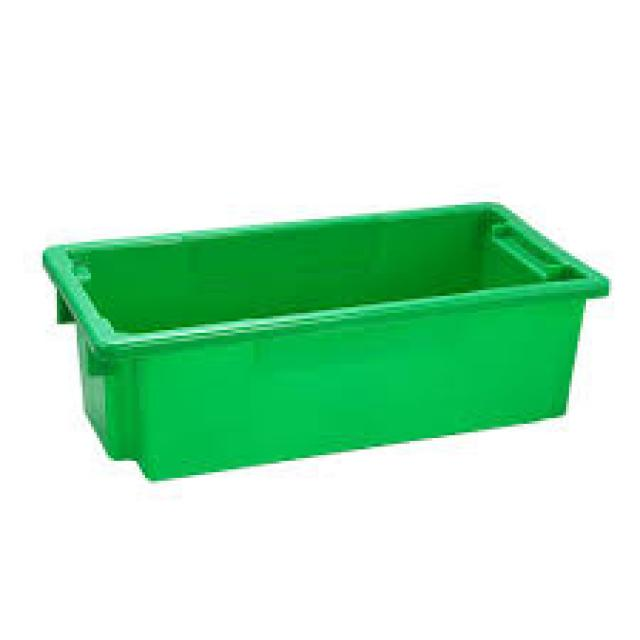basket: (41, 161, 631, 495)
